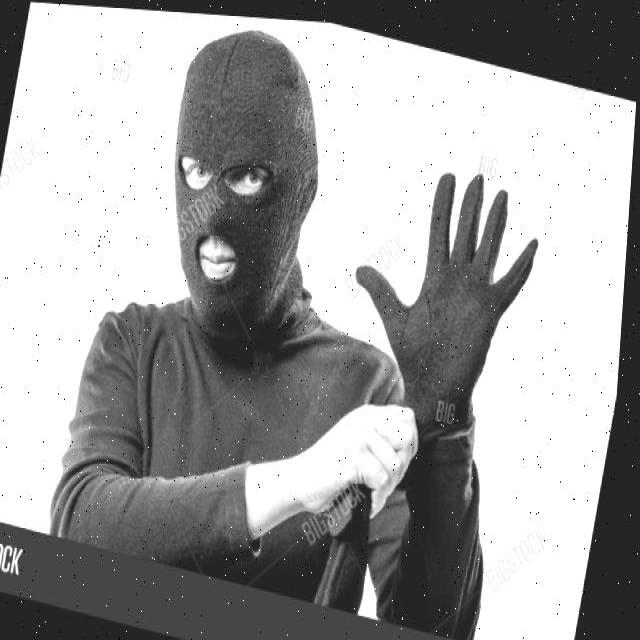6_pasamontana: (174, 28, 320, 352)
